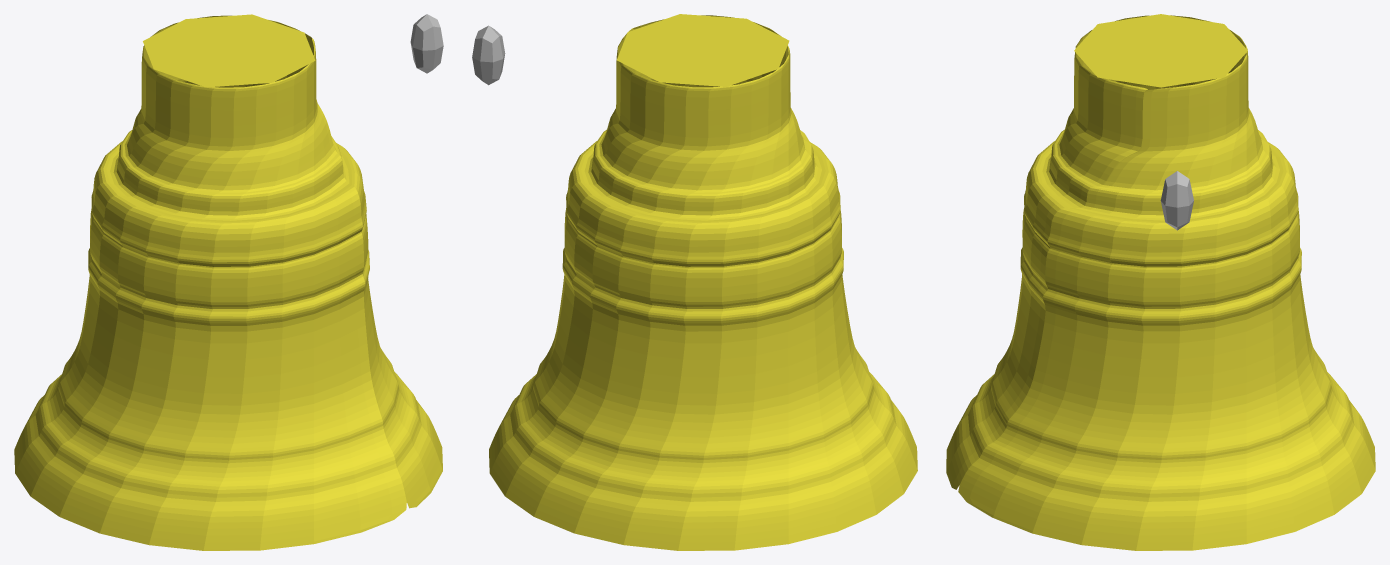
File: sinoIgreja.fbx
The picture shows the model from 3 angles, left to right: view 1: azimuth 30°, elevation 25°; view 2: azimuth 150°, elevation 25°; view 3: azimuth 270°, elevation 25°; orthographic projection.
Visible parts, largest first — view 1: sino, Cube; view 2: sino, Cube; view 3: sino, Cube.
Boxes of the visible parts, x1,y1,x2,y2 form: sino: (14,14,442,550); Cube: (410,14,443,73); sino: (489,14,917,550); Cube: (472,25,505,85); sino: (946,14,1375,550); Cube: (1160,171,1193,230).
Size of the model in its own units: 255 by 245 by 233.
